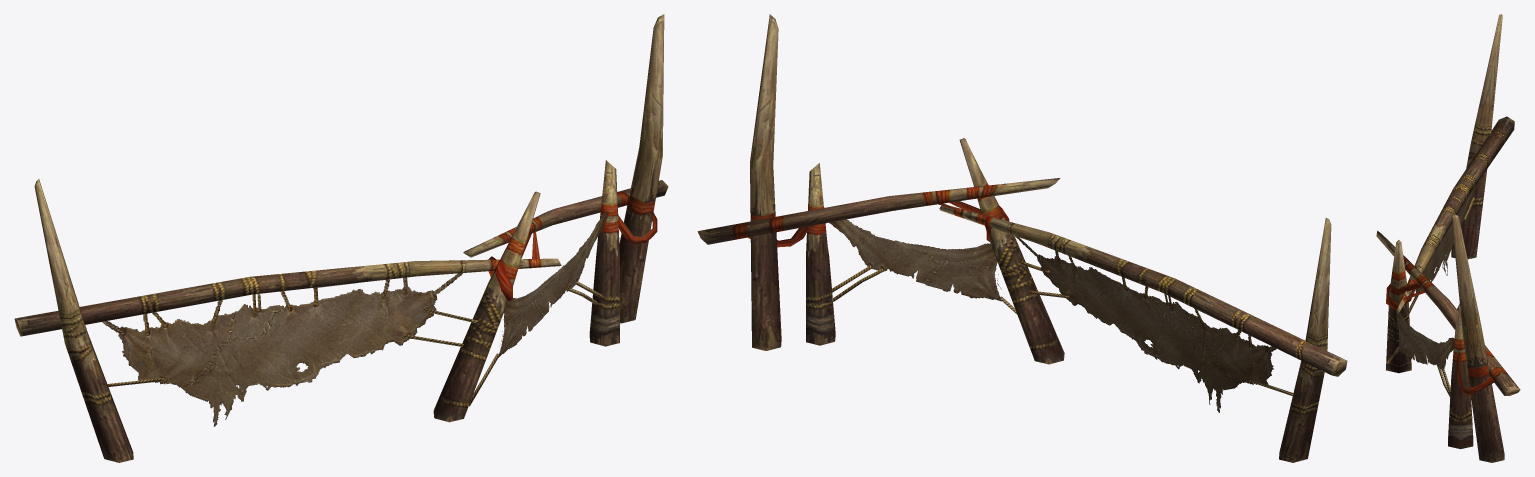
Rendered from 7001_Item_wujian_02.FBX.
3 views of the same model, side by side, from view 1: azimuth 30°, elevation 25°; view 2: azimuth 150°, elevation 25°; view 3: azimuth 270°, elevation 25° (orthographic). The views are drawn at different scales.
Visible parts, largest first — view 1: 7001_Item_wujian_02; view 2: 7001_Item_wujian_02; view 3: 7001_Item_wujian_02.
Part boxes in pixels (x1=…): 7001_Item_wujian_02: x1=14, y1=14, x2=668, y2=462; 7001_Item_wujian_02: x1=697, y1=14, x2=1347, y2=462; 7001_Item_wujian_02: x1=1376, y1=14, x2=1520, y2=462.
Bounding box in the file's own units: 207 × 94.98 × 49.44.
